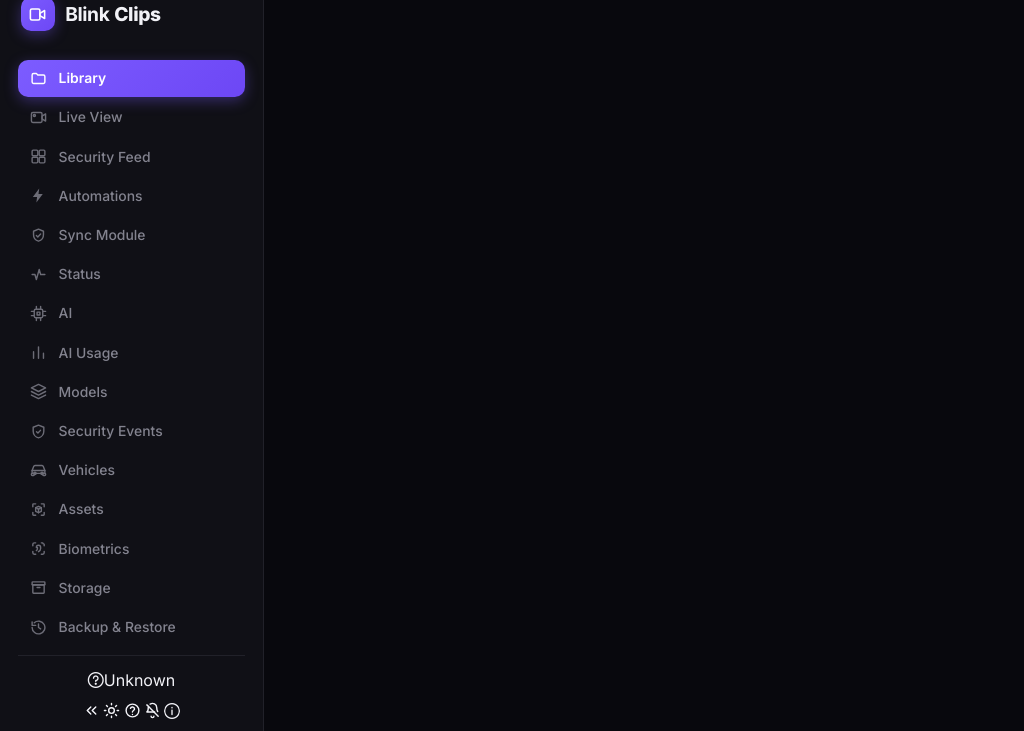
Test: App › switches to the Backup & Restore tab, which is not built until it is opened
The width and height of the screenshot is (1024, 731).
Step 1. Click the button "Backup & Restore" → (132, 627), box [18,609,245,645]
(page scrolled)
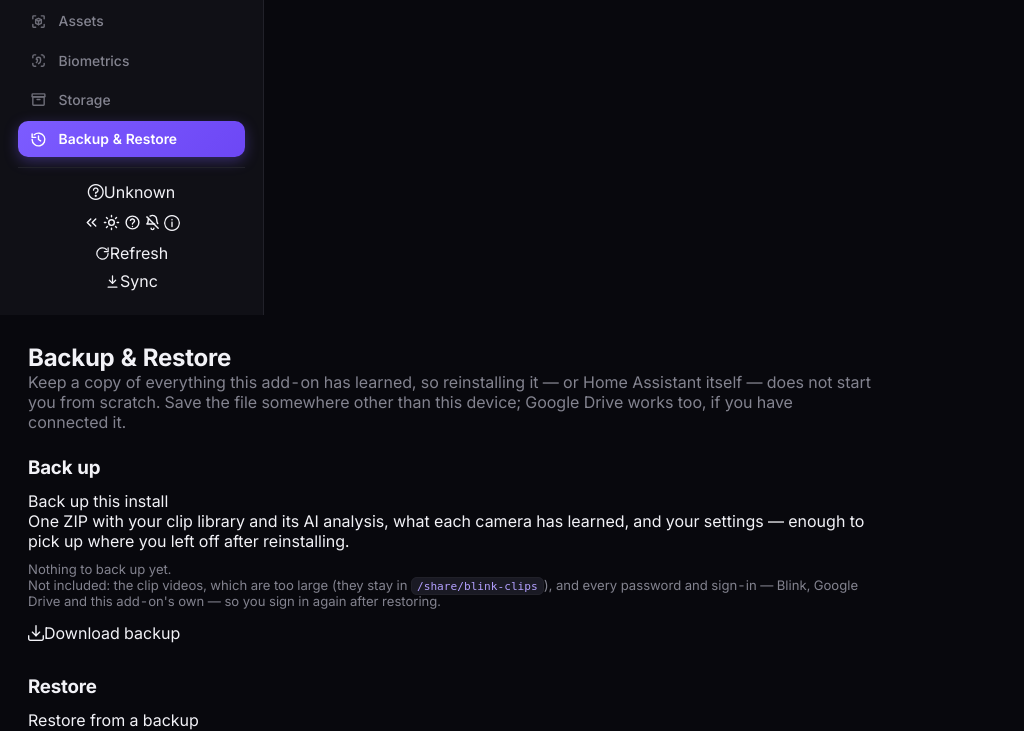
Expected: the heading "Backup & Restore" is shown, [28,343,231,372]
